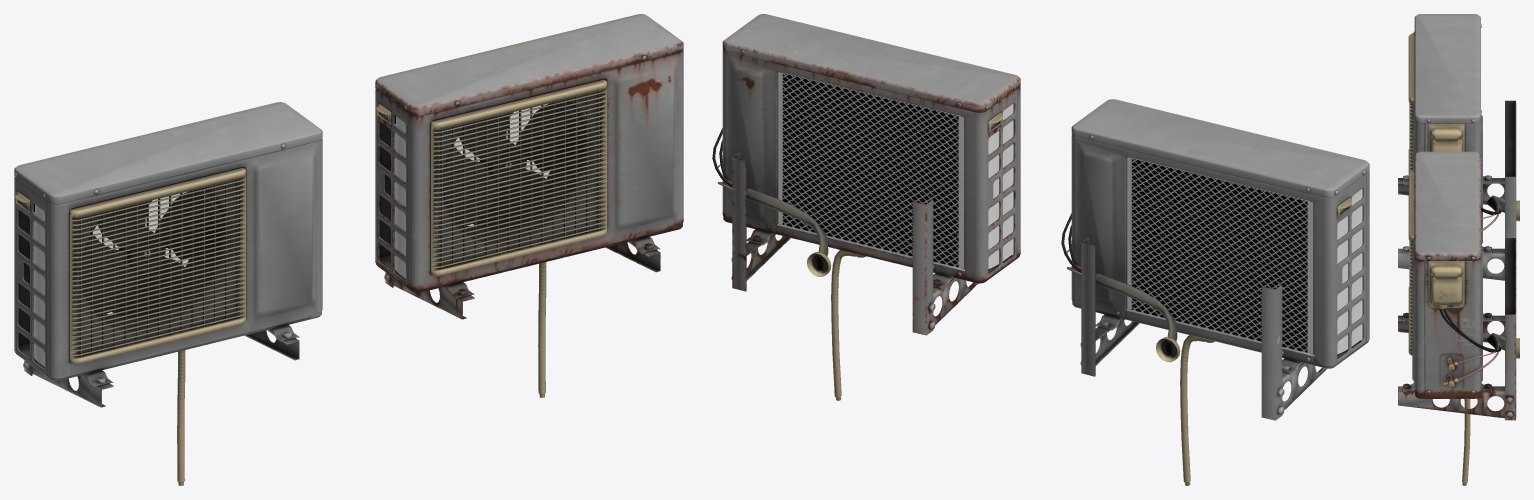
File: exterior_aircon_unit.glb
3 renders of one model, left to right at view 1: azimuth 30°, elevation 25°; view 2: azimuth 150°, elevation 25°; view 3: azimuth 270°, elevation 25°, orthographic. The views are drawn at different scales.
Parts seen in each view (by area): view 1: exterior_aircon_unit, exterior_aircon_unit_rusted; view 2: exterior_aircon_unit, exterior_aircon_unit_rusted; view 3: exterior_aircon_unit_rusted, exterior_aircon_unit.
Part boxes in pixels (left/top/right/bottom): exterior_aircon_unit: left=14, top=102, right=322, bottom=485; exterior_aircon_unit_rusted: left=375, top=14, right=683, bottom=397; exterior_aircon_unit: left=1061, top=99, right=1369, bottom=485; exterior_aircon_unit_rusted: left=712, top=14, right=1020, bottom=400; exterior_aircon_unit_rusted: left=1398, top=151, right=1519, bottom=485; exterior_aircon_unit: left=1398, top=14, right=1519, bottom=280.
Bounding box in the file's own units: 1.8 × 0.9279 × 0.3741.
Materials: 4 (4 with a texture image).
